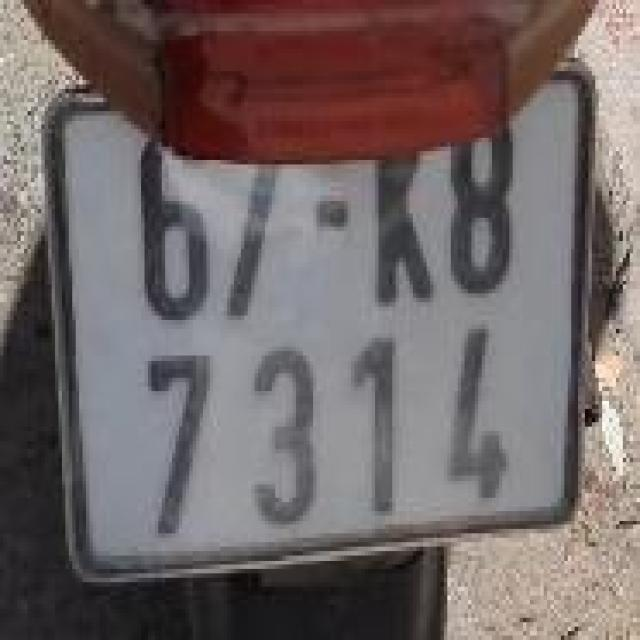1: (339, 329, 418, 538)
3: (244, 326, 317, 526)
4: (439, 311, 518, 502)
6: (131, 120, 217, 329)
7: (131, 344, 220, 544), (224, 109, 278, 331)
8: (442, 100, 525, 304)
K: (358, 109, 437, 318)
